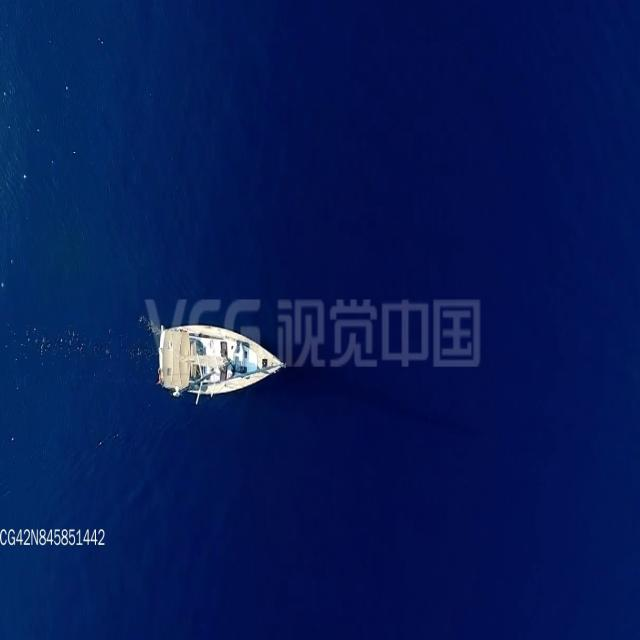sailboat: (155, 322, 288, 401)
